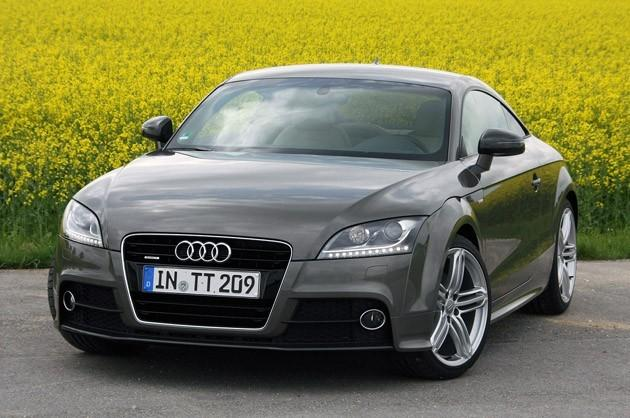Hatchback: (46, 60, 579, 380)
